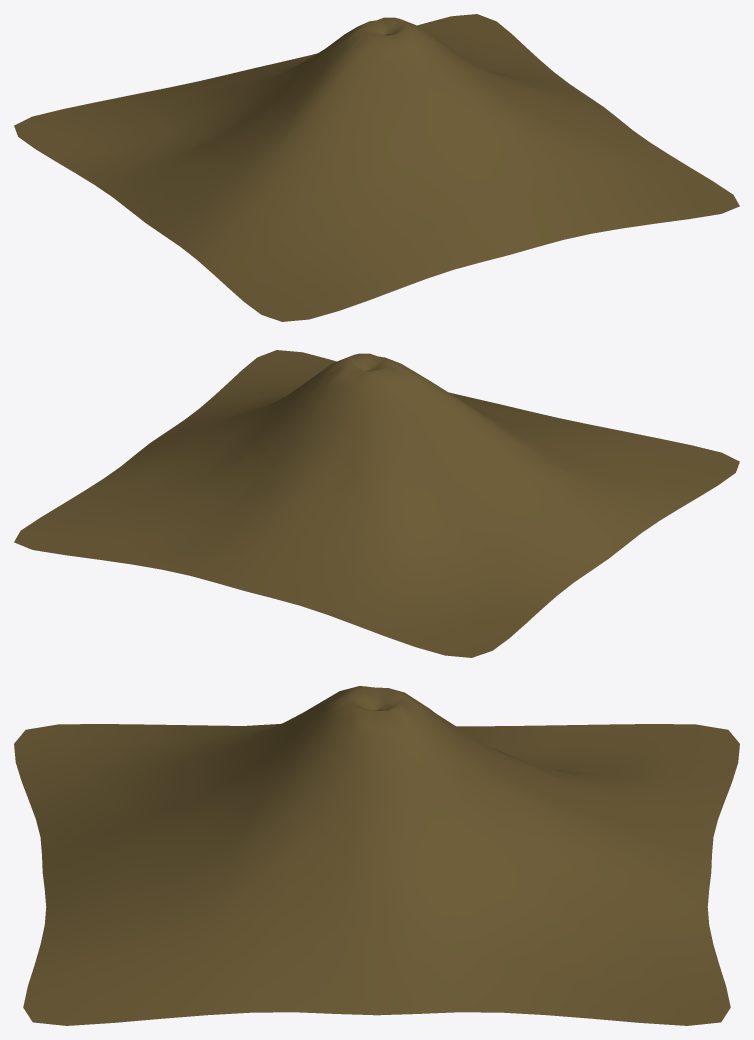
File: AntHill.fbx
3 renders of one model, top to bottom at view 1: azimuth 30°, elevation 25°; view 2: azimuth 150°, elevation 25°; view 3: azimuth 270°, elevation 25°, orthographic. The views are drawn at different scales.
Parts seen in each view (by area): view 1: antHill; view 2: antHill; view 3: antHill.
Part boxes in pixels (<box>): antHill: <box>14,14,739,321</box>; antHill: <box>14,350,739,657</box>; antHill: <box>14,686,739,1025</box>.
Size of the model in its own units: 979 by 274 by 988.
